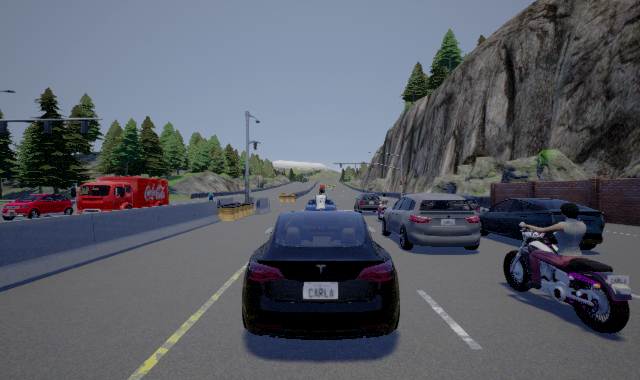motobike: (503, 201, 633, 337)
traffic_light: (399, 179, 403, 185), (372, 163, 374, 168), (340, 163, 342, 168)
vehicle: (242, 205, 397, 340), (480, 193, 608, 255), (378, 193, 483, 253), (76, 177, 170, 214), (2, 194, 74, 220), (354, 192, 383, 213), (305, 198, 338, 211)
